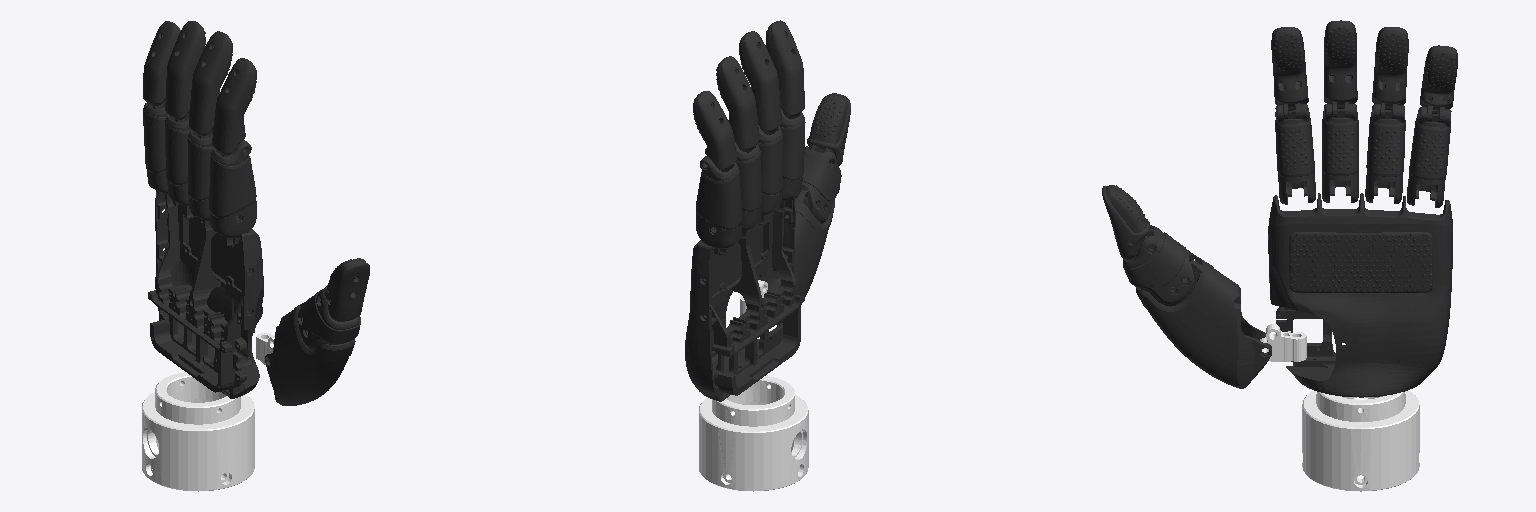
--- What the picture shows (computed from the rendered views, not written in the file) ---
Views: 3 orthographic renders of the robot side by side, from view 1: azimuth 30°, elevation 25°; view 2: azimuth 150°, elevation 25°; view 3: azimuth 270°, elevation 25°.
Model RH56F1 with 27 links and 26 joints (12 revolute, 14 fixed), rooted at L_base_link, posed all joints at 0.
Links seen in each view (by area): view 1: L_plam_2, L_base_link, L_thumb_2, L_index_1, L_ring_tip, L_index_tip, L_thumb_3, L_middle_tip, L_ring_1, L_middle_1, L_pinky_1, L_plam_force_sensor (+4 smaller); view 2: L_plam_2, L_base_link, L_pinky_1, L_thumb_2, L_thumb_3, L_middle_force_sensor, L_ring_tip, L_index_1, L_middle_1, L_ring_1, L_plam_force_sensor, L_pinky_force_sensor (+6 smaller); view 3: L_plam_2, L_base_link, L_plam_force_sensor, L_thumb_2, L_thumb_3, L_middle_1, L_index_1, L_pinky_1, L_ring_1, L_pinky_tip, L_middle_force_sensor, L_ring_2 (+7 smaller).
Boxes of the visible links, x1,y1,x2,y2 form: L_plam_2: [148, 190, 263, 398]; L_base_link: [142, 372, 254, 491]; L_thumb_2: [265, 302, 355, 405]; L_index_1: [209, 141, 256, 237]; L_ring_tip: [165, 21, 205, 121]; L_index_tip: [218, 58, 256, 156]; L_thumb_3: [298, 288, 360, 349]; L_middle_tip: [189, 42, 232, 138]; L_ring_1: [165, 113, 190, 205]; L_middle_1: [187, 129, 213, 220]; L_pinky_1: [143, 103, 167, 193]; L_plam_force_sensor: [189, 217, 243, 289]; L_plam_2: [685, 197, 804, 401]; L_base_link: [699, 376, 808, 491]; L_pinky_1: [696, 157, 742, 248]; L_thumb_2: [757, 189, 834, 325]; L_thumb_3: [798, 146, 841, 223]; L_middle_force_sensor: [739, 31, 776, 134]; L_ring_tip: [716, 56, 759, 152]; L_index_1: [779, 109, 805, 200]; L_middle_1: [757, 125, 782, 214]; L_ring_1: [735, 143, 761, 230]; L_plam_force_sensor: [710, 224, 762, 296]; L_pinky_force_sensor: [696, 91, 736, 171]; L_plam_2: [1268, 193, 1452, 397]; L_base_link: [1302, 390, 1419, 491]; L_plam_force_sensor: [1289, 232, 1432, 292]; L_thumb_2: [1136, 253, 1271, 388]; L_thumb_3: [1123, 225, 1196, 306]; L_middle_1: [1322, 104, 1358, 202]; L_index_1: [1275, 104, 1315, 204]; L_pinky_1: [1407, 107, 1451, 207]; L_ring_1: [1365, 104, 1405, 203]; L_pinky_tip: [1420, 45, 1457, 122]; L_middle_force_sensor: [1326, 20, 1357, 117]; L_ring_2: [1372, 37, 1408, 118].
Bounding box of the posed robot: 0.0547 × 0.1518 × 0.2135 m (x, y, z).
Meshes: 27 distinct files referenced, 25 mesh visuals loaded (25 binary STL); not drawn: 2 (reference not matched to a file when rendering).

URDF robot description (RH56F1):
<!-- <?xml version="1.0" encoding="utf-8"?> -->
<!-- This URDF was automatically created by SolidWorks to URDF Exporter! Originally created by Stephen Brawner ([email redacted]) 
     Commit Version: 1.6.0-4-g7f85cfe  Build Version: 1.6.7995.38578
     For more information, please see http://wiki.ros.org/sw_urdf_exporter -->
 <robot name="RH56F1">
  <link
    name="L_base_link">
    <inertial>
      <origin
        xyz="0.000631583768841232 -4.98983354635385E-11 0.0185710296512339"
        rpy="0 0 0" />
      <mass
        value="0.0793945339384899" />
      <inertia
        ixx="2.73302961659096E-05"
        ixy="-1.14020192447604E-12"
        ixz="2.86317776549754E-08"
        iyy="2.62165201865506E-05"
        iyz="-9.86803596469321E-13"
        izz="3.56824415579562E-05" />
    </inertial>
    <visual>
      <origin
        xyz="0 0 0"
        rpy="0 0 0" />
      <geometry>
        <mesh
          filename="./meshes_l/base_link.STL" />
      </geometry>
      <material
        name="">
        <color
          rgba="1 1 1 1" />
      </material>
    </visual>
    <collision>
      <origin
        xyz="0 0 0"
        rpy="0 0 0" />
      <geometry>
        <mesh
          filename="./meshes_l/base_link.STL" />
      </geometry>
    </collision>
  </link>
  <link
    name="L_thumb_1">
    <inertial>
      <origin
        xyz="-0.00015 0.00544 -0.0048200000000000005"
        rpy="0 0 0" />
      <mass
        value="0.016800000000000002" />
      <inertia
        ixx="7.3387e-07"
        ixy="1.436e-08"
        ixz="-1.11e-09"
        iyy="2.7925e-07"
        iyz="3.296e-08"
        izz="5.8189e-07" />
    </inertial>
    <visual>
      <origin
        xyz="0 0 0"
        rpy="0 0 0" />
      <geometry>
        <mesh
          filename="./meshes_l/left_thumb_1.STL" />
      </geometry>
      <material
        name="">
        <color
          rgba="1 1 1 1" />
      </material>
    </visual>
    <collision>
      <origin
        xyz="0 0 0"
        rpy="0 0 0" />
      <geometry>
        <mesh
          filename="./meshes_l/left_thumb_1.STL" />
      </geometry>
    </collision>
  </link>
  <joint
    name="L_thumb_1_joint"
    type="revolute">
    <origin
      xyz="0.01836 -0.027241 0.070511"
      rpy="0 0 0" />
    <parent
      link="L_base_link" />
    <child
      link="L_thumb_1" />
    <axis
      xyz="8.7274E-05 0 1" />
    <limit
      lower="0"
      upper="2.0943951023931953"
      effort="1"
      velocity="2" />
  </joint>
  <link
    name="L_thumb_2">
    <inertial>
      <origin
        xyz="-0.0238 0.01042 0.00478"
        rpy="0 0 0" />
      <mass
        value="0.06526" />
      <inertia
        ixx="1.378224e-05"
        ixy="-5.95663e-06"
        ixz="-1.9799999999999998e-09"
        iyy="1.1840129999999999e-05"
        iyz="-7.070000000000001e-09"
        izz="2.249189e-05" />
    </inertial>
    <visual>
      <origin
        xyz="0 0 0"
        rpy="0 0 0" />
      <geometry>
        <mesh
          filename="./meshes_l/left_thumb_2.STL" />
      </geometry>
      <material
        name="">
        <color
          rgba="0.25 0.25 0.25 1" />
      </material>
    </visual>
    <collision>
      <origin
        xyz="0 0 0"
        rpy="0 0 0" />
      <geometry>
        <mesh
          filename="./meshes_l/left_thumb_2.STL" />
      </geometry>
    </collision>
  </link>
  <joint
    name="L_thumb_2_joint"
    type="revolute">
    <origin
      xyz="0.005034 -0.01349 -0.0049121"
      rpy="1.5707 0 -1.5708" />
    <parent
      link="L_thumb_1" />
    <child
      link="L_thumb_2" />
    <axis
      xyz="0 0 1" />
    <limit
      lower="0"
      upper="0.4745550236172582"
      effort="1"
      velocity="2" />
  </joint>
  <link
    name="L_thumb_3">
    <inertial>
      <origin
        xyz="-0.01255 0.00331 0.00799"
        rpy="0 0 0" />
      <mass
        value="0.01333" />
      <inertia
        ixx="1.41987e-06"
        ixy="-1.4979e-07"
        ixz="-6.3e-10"
        iyy="1.18482e-06"
        iyz="-1.76e-09"
        izz="1.6920999999999999e-06" />
    </inertial>
    <visual>
      <origin
        xyz="0 0 0"
        rpy="0 0 0" />
      <geometry>
        <mesh
          filename="./meshes_l/left_thumb_3.STL" />
      </geometry>
      <material
        name="">
        <color
          rgba="0.25 0.25 0.25 1" />
      </material>
    </visual>
    <collision>
      <origin
        xyz="0 0 0"
        rpy="0 0 0" />
      <geometry>
        <mesh
          filename="./meshes_l/left_thumb_3.STL" />
      </geometry>
    </collision>
  </link>
  <joint
    name="L_thumb_3_joint"
    type="revolute">
    <origin
      xyz="0.033907 0.034601 -0.0029656"
      rpy="0 0 0" />
    <parent
      link="L_thumb_2" />
    <child
      link="L_thumb_3" />
    <axis
      xyz="0 0 1" />
    <limit
      lower="0"
      upper="3.14"
      effort="1"
      velocity="2" />
      <mimic 
        joint="L_thumb_2_joint"
        multiplier="1.2953"
        offset="0" />
  </joint>
  <link
    name="L_thumb_4">
    <inertial>
      <origin
        xyz="-0.010199999999999999 0.00886 0.0067"
        rpy="0 0 0" />
      <mass
        value="0.011439999999999999" />
      <inertia
        ixx="9.4221e-07"
        ixy="-1.6288e-07"
        ixz="-0.0"
        iyy="3.9966e-07"
        iyz="0.0"
        izz="9.478099999999999e-07" />
    </inertial>
    <visual>
      <origin
        xyz="0 0 0"
        rpy="0 0 0" />
      <geometry>
        <mesh
          filename="./meshes_l/left_thumb_4.STL" />
      </geometry>
      <material
        name="">
        <color
          rgba="0.25 0.25 0.25 1" />
      </material>
    </visual>
    <collision>
      <origin
        xyz="0 0 0"
        rpy="0 0 0" />
      <geometry>
        <mesh
          filename="./meshes_l/left_thumb_4.STL" />
      </geometry>
    </collision>
  </link>
  <joint
    name="L_thumb_4_joint"
    type="revolute">
    <origin
      xyz="0.01441 0.014648 0.0013"
      rpy="0 0 0" />
    <parent
      link="L_thumb_3" />
    <child
      link="L_thumb_4" />
    <axis
      xyz="0 0 1" />
    <limit
      lower="0"
      upper="3.14"
      effort="1"
      velocity="2" />
      <mimic 
        joint="L_thumb_3_joint"
        multiplier="0.8962"
        offset="0" />
  </joint>
  <link
    name="L_thumb_force_sensor">
    <inertial>
      <origin
        xyz="0.00489751957141649 0.0007076731556618 -0.00883776267773212"
        rpy="0 0 0" />
      <mass
        value="0" />
      <inertia
        ixx="0"
        ixy="0"
        ixz="0"
        iyy="0"
        iyz="0"
        izz="0" />
    </inertial>
    <visual>
      <origin
        xyz="0 0 0"
        rpy="0 0 0" />
      <geometry>
        <mesh
          filename="./meshes_l/thumb_force_sensor.STL" />
      </geometry>
      <material
        name="">
        <color
          rgba="0.25 0.25 0.25 1" />
      </material>
    </visual>
    <collision>
      <origin
        xyz="0 0 0"
        rpy="0 0 0" />
      <geometry>
        <mesh
          filename="./meshes_l/thumb_force_sensor.STL" />
      </geometry>
    </collision>
  </link>
  <joint
    name="L_thumb_force_sensor_joint"
    type="fixed">
    <origin
      xyz="0.0082761 0.019128 0.0068"
      rpy="1.5194 0.0515 -2.3562" />
    <parent
      link="L_thumb_4" />
    <child
      link="L_thumb_force_sensor" />
    <axis
      xyz="0 0 0" />
  </joint>
  <link
    name="L_thumb_tip">
    <inertial>
      <origin
        xyz="8.11478806861891E-05 -0.00949601991936605 -0.0139509187579862"
        rpy="0 0 0" />
      <mass
        value="0" />
      <inertia
        ixx="0"
        ixy="0"
        ixz="0"
        iyy="0"
        iyz="0"
        izz="0" />
    </inertial>
    <visual>
      <origin
        xyz="0 0 0"
        rpy="0 0 0" />
      <geometry>
        <mesh
          filename="./meshes_l/thumb_tip.STL" />
      </geometry>
      <material
        name="">
        <color
          rgba="0.25 0.25 0.25 1" />
      </material>
    </visual>
    <collision>
      <origin
        xyz="0 0 0"
        rpy="0 0 0" />
      <geometry>
        <mesh
          filename="./meshes_l/thumb_tip.STL" />
      </geometry>
    </collision>
  </link>
  <joint
    name="L_thumb_tip_joint"
    type="fixed">
    <origin
      xyz="0.016676 0.025314 0.0067577"
      rpy="1.8172 -1.5641 -3.1286" />
    <parent
      link="L_thumb_4" />
    <child
      link="L_thumb_tip" />
    <axis
      xyz="0 0 0" />
  </joint>
  <link
    name="L_index_1">
    <inertial>
      <origin
        xyz="0.00046 0.01509 0.0060999999999999995"
        rpy="0 0 0" />
      <mass
        value="0.01111" />
      <inertia
        ixx="2.04599e-06"
        ixy="3.703e-08"
        ixz="1.77e-09"
        iyy="5.4029e-07"
        iyz="-9.149e-08"
        izz="2.0895e-06" />
    </inertial>
    <visual>
      <origin
        xyz="0 0 0"
        rpy="0 0 0" />
      <geometry>
        <mesh
          filename="./meshes_l/left_index_1.STL" />
      </geometry>
      <material
        name="">
        <color
          rgba="0.25 0.25 0.25 1" />
      </material>
    </visual>
    <collision>
      <origin
        xyz="0 0 0"
        rpy="0 0 0" />
      <geometry>
        <mesh
          filename="./meshes_l/left_index_1.STL" />
      </geometry>
    </collision>
  </link>
  <joint
    name="L_index_1_joint"
    type="revolute">
    <origin
      xyz="0.00070753 -0.034377 0.13554"
      rpy="1.6319 0 0" />
    <parent
      link="L_base_link" />
    <child
      link="L_index_1" />
    <axis
      xyz="0 0 -1" />
    <limit
      lower="0"
      upper="1.5285593588966337"
      effort="1"
      velocity="2" />
  </joint>
  <link
    name="L_index_2">
    <inertial>
      <origin
        xyz="-0.00436 0.01623 0.005019999999999999"
        rpy="0 0 0" />
      <mass
        value="0.0103" />
      <inertia
        ixx="1.5669000000000002e-06"
        ixy="2.2414e-07"
        ixz="1.3699999999999999e-08"
        iyy="2.9717e-07"
        iyz="-7.84e-08"
        izz="1.5746300000000001e-06" />
    </inertial>
    <visual>
      <origin
        xyz="0 0 0"
        rpy="0 0 0" />
      <geometry>
        <mesh
          filename="./meshes_l/left_index_2.STL" />
      </geometry>
      <material
        name="">
        <color
          rgba="0.25 0.25 0.25 1" />
      </material>
    </visual>
    <collision>
      <origin
        xyz="0 0 0"
        rpy="0 0 0" />
      <geometry>
        <mesh
          filename="./meshes_l/left_index_2.STL" />
      </geometry>
    </collision>
  </link>
  <joint
    name="L_index_2_joint"
    type="revolute">
    <origin
      xyz="0.0031056 0.032854 -0.001"
      rpy="0 0 0" />
    <parent
      link="L_index_1" />
    <child
      link="L_index_2" />
    <axis
      xyz="0 0 -1" />
    <limit
      lower="0"
      upper="3.14"
      effort="1"
      velocity="2" />
      <mimic 
        joint="L_index_1_joint"
        multiplier="1.1545"
        offset="0" />
  </joint>
  <link
    name="L_index_force_sensor">
    <inertial>
      <origin
        xyz="0.00120718275325524 -0.012261274947138 -0.00640384837472582"
        rpy="0 0 0" />
      <mass
        value="0" />
      <inertia
        ixx="0"
        ixy="0"
        ixz="0"
        iyy="0"
        iyz="0"
        izz="0" />
    </inertial>
    <visual>
      <origin
        xyz="0 0 0"
        rpy="0 0 0" />
      <geometry>
        <mesh
          filename="./meshes_l/index_force_sensor.STL" />
      </geometry>
      <material
        name="">
        <color
          rgba="0.25 0.25 0.25 1" />
      </material>
    </visual>
    <collision>
      <origin
        xyz="0 0 0"
        rpy="0 0 0" />
      <geometry>
        <mesh
          filename="./meshes_l/index_force_sensor.STL" />
      </geometry>
    </collision>
  </link>
  <joint
    name="L_index_force_sensor_joint"
    type="fixed">
    <origin
      xyz="0.005139 0.028671 -0.0059996"
      rpy="-2.1954 1.4829 -2.3749" />
    <parent
      link="L_index_2" />
    <child
      link="L_index_force_sensor" />
    <axis
      xyz="0 0 0" />
  </joint>
  <link
    name="L_index_tip">
    <inertial>
      <origin
        xyz="0.0014808314279941 -0.0177565390809834 -0.0152284217596933"
        rpy="0 0 0" />
      <mass
        value="0" />
      <inertia
        ixx="0"
        ixy="0"
        ixz="0"
        iyy="0"
        iyz="0"
        izz="0" />
    </inertial>
    <visual>
      <origin
        xyz="0 0 0"
        rpy="0 0 0" />
      <geometry>
        <mesh
          filename="./meshes_l/index_tip.STL" />
      </geometry>
      <material
        name="">
        <color
          rgba="0.25 0.25 0.25 1" />
      </material>
    </visual>
    <collision>
      <origin
        xyz="0 0 0"
        rpy="0 0 0" />
      <geometry>
        <mesh
          filename="./meshes_l/index_tip.STL" />
      </geometry>
    </collision>
  </link>
  <joint
    name="L_index_tip_joint"
    type="fixed">
    <origin
      xyz="0.0049188 0.039631 -0.006"
      rpy="-2.1925 1.5073 -1.8461" />
    <parent
      link="L_index_2" />
    <child
      link="L_index_tip" />
    <axis
      xyz="0 0 0" />
  </joint>
  <link
    name="L_middle_1">
    <inertial>
      <origin
        xyz="0.00046 0.01468 0.00701"
        rpy="0 0 0" />
      <mass
        value="0.01111" />
      <inertia
        ixx="2.04599e-06"
        ixy="3.707e-08"
        ixz="-4.9e-10"
        iyy="5.3491e-07"
        iyz="3.6e-09"
        izz="2.09487e-06" />
    </inertial>
    <visual>
      <origin
        xyz="0 0 0"
        rpy="0 0 0" />
      <geometry>
        <mesh
          filename="./meshes_l/left_middle_1.STL" />
      </geometry>
      <material
        name="">
        <color
          rgba="0.25 0.25 0.25 1" />
      </material>
    </visual>
    <collision>
      <origin
        xyz="0 0 0"
        rpy="0 0 0" />
      <geometry>
        <mesh
          filename="./meshes_l/left_middle_1.STL" />
      </geometry>
    </collision>
  </link>
  <joint
    name="L_middle_1_joint"
    type="revolute">
    <origin
      xyz="0.00070746 -0.015767 0.13648"
      rpy="1.5708 0 0" />
    <parent
      link="L_base_link" />
    <child
      link="L_middle_1" />
    <axis
      xyz="0 0 -1" />
    <limit
      lower="0"
      upper="1.5285593588966337"
      effort="1"
      velocity="2" />
  </joint>
  <link
    name="L_middle_2">
    <inertial>
      <origin
        xyz="-0.004019999999999999 0.01731 0.006"
        rpy="0 0 0" />
      <mass
        value="0.01122" />
      <inertia
        ixx="1.92755e-06"
        ixy="2.9305e-07"
        ixz="-1.0000000000000001e-11"
        iyy="3.2973000000000003e-07"
        iyz="1.0000000000000001e-11"
        izz="1.95229e-06" />
    </inertial>
    <visual>
      <origin
        xyz="0 0 0"
        rpy="0 0 0" />
      <geometry>
        <mesh
          filename="./meshes_l/left_middle_2.STL" />
      </geometry>
      <material
        name="">
        <color
          rgba="0.25 0.25 0.25 1" />
      </material>
    </visual>
    <collision>
      <origin
        xyz="0 0 0"
        rpy="0 0 0" />
      <geometry>
        <mesh
          filename="./meshes_l/left_middle_2.STL" />
      </geometry>
    </collision>
  </link>
  <joint
    name="L_middle_2_joint"
    type="revolute">
    <origin
      xyz="0.0031056 0.032854 -0.001"
      rpy="0 0 0" />
    <parent
      link="L_middle_1" />
    <child
      link="L_middle_2" />
    <axis
      xyz="0 0 -1" />
    <limit
      lower="0"
      upper="3.14"
      effort="1"
      velocity="2" />
      <mimic 
        joint="L_middle_1_joint"
        multiplier="1.1545"
        offset="0" />
  </joint>
  <link
    name="L_middle_force_sensor">
    <inertial>
      <origin
        xyz="0.000471409970909109 -0.0138861005738287 -0.00634250554762082"
        rpy="0 0 0" />
      <mass
        value="0" />
      <inertia
        ixx="0"
        ixy="0"
        ixz="0"
        iyy="0"
        iyz="0"
        izz="0" />
    </inertial>
    <visual>
      <origin
        xyz="0 0 0"
        rpy="0 0 0" />
      <geometry>
        <mesh
          filename="./meshes_l/middle_force_sensor.STL" />
      </geometry>
      <material
        name="">
        <color
          rgba="0.25 0.25 0.25 1" />
      </material>
    </visual>
    <collision>
      <origin
        xyz="0 0 0"
        rpy="0 0 0" />
      <geometry>
        <mesh
          filename="./meshes_l/middle_force_sensor.STL" />
      </geometry>
    </collision>
  </link>
  <joint
    name="L_middle_force_sensor_joint"
    type="fixed">
    <origin
      xyz="0.0059655 0.031551 -0.0060998"
      rpy="-2.9405 1.5184 3.1416" />
    <parent
      link="L_middle_2" />
    <child
      link="L_middle_force_sensor" />
    <axis
      xyz="0 0 0" />
  </joint>
  <link
    name="L_middle_tip">
    <inertial>
      <origin
        xyz="-1.57112051041297E-05 -0.0191707815454482 -0.0160132461086732"
        rpy="0 0 0" />
      <mass
        value="0" />
      <inertia
        ixx="0"
        ixy="0"
        ixz="0"
        iyy="0"
        iyz="0"
        izz="0" />
    </inertial>
    <visual>
      <origin
        xyz="0 0 0"
        rpy="0 0 0" />
      <geometry>
        <mesh
          filename="./meshes_l/middle_tip.STL" />
      </geometry>
      <material
        name="">
        <color
          rgba="0.25 0.25 0.25 1" />
      </material>
    </visual>
    <collision>
      <origin
        xyz="0 0 0"
        rpy="0 0 0" />
      <geometry>
        <mesh
          filename="./meshes_l/middle_tip.STL" />
      </geometry>
    </collision>
  </link>
  <joint
    name="L_middle_tip_joint"
    type="fixed">
    <origin
      xyz="0.0059647 0.042512 -0.0060998"
      rpy="-0.3273 1.5691 0" />
    <parent
      link="L_middle_2" />
    <child
      link="L_middle_tip" />
    <axis
      xyz="0 0 0" />
  </joint>
  <link
    name="L_ring_1">
    <inertial>
      <origin
        xyz="0.00046 0.0143 0.00777"
        rpy="0 0 0" />
      <mass
        value="0.01111" />
      <inertia
        ixx="2.04599e-06"
        ixy="3.699e-08"
        ixz="-2.43e-09"
        iyy="5.395599999999999e-07"
        iyz="8.511e-08"
        izz="2.09023e-06" />
    </inertial>
    <visual>
      <origin
        xyz="0 0 0"
        rpy="0 0 0" />
      <geometry>
        <mesh
          filename="./meshes_l/left_ring_1.STL" />
      </geometry>
      <material
        name="">
        <color
          rgba="0.25 0.25 0.25 1" />
      </material>
    </visual>
    <collision>
      <origin
        xyz="0 0 0"
        rpy="0 0 0" />
      <geometry>
        <mesh
          filename="./meshes_l/left_ring_1.STL" />
      </geometry>
    </collision>
  </link>
  <joint
    name="L_ring_1_joint"
    type="revolute">
    <origin
      xyz="0.00070746 0.0030876 0.13643"
      rpy="1.5184 0 0" />
    <parent
      link="L_base_link" />
    <child
      link="L_ring_1" />
    <axis
      xyz="0 0 -1" />
    <limit
      lower="0"
      upper="1.5285593588966337"
      effort="1"
      velocity="2" />
  </joint>
  <link
    name="L_ring_2">
    <inertial>
      <origin
        xyz="-0.00436 0.015560000000000001 0.0068200000000000005"
        rpy="0 0 0" />
      <mass
        value="0.0103" />
      <inertia
        ixx="1.5669000000000002e-06"
        ixy="2.2425e-07"
        ixz="-1.1759999999999999e-08"
        iyy="2.959e-07"
        iyz="6.729e-08"
        izz="1.5758900000000002e-06" />
    </inertial>
    <visual>
      <origin
        xyz="0 0 0"
        rpy="0 0 0" />
      <geometry>
        <mesh
          filename="./meshes_l/left_ring_2.STL" />
      </geometry>
      <material
        name="">
        <color
          rgba="0.25 0.25 0.25 1" />
      </material>
    </visual>
    <collision>
      <origin
        xyz="0 0 0"
        rpy="0 0 0" />
      <geometry>
        <mesh
          filename="./meshes_l/left_ring_2.STL" />
      </geometry>
    </collision>
  </link>
  <joint
    name="L_ring_2_joint"
    type="revolute">
    <origin
      xyz="0.0031056 0.032854 -0.001"
      rpy="0 0 0" />
    <parent
      link="L_ring_1" />
    <child
      link="L_ring_2" />
    <axis
      xyz="0 0 -1" />
    <limit
      lower="0"
      upper="3.14"
      effort="1"
      velocity="2" />
      <mimic 
        joint="L_ring_1_joint"
        multiplier="1.1545"
        offset="0" />
  </joint>
  <link
    name="L_ring_force_sensor">
    <inertial>
      <origin
        xyz="-0.000209715894633783 -0.0123187686132097 -0.00640384736210899"
        rpy="0 0 0" />
      <mass
        value="0" />
      <inertia
        ixx="0"
        ixy="0"
        ixz="0"
        iyy="0"
        iyz="0"
        izz="0" />
    </inertial>
    <visual>
      <origin
        xyz="0 0 0"
        rpy="0 0 0" />
      <geometry>
        <mesh
          filename="./meshes_l/ring_force_sensor.STL" />
      </geometry>
      <material
        name="">
        <color
          rgba="0.25 0.25 0.25 1" />
      </material>
    </visual>
    <collision>
      <origin
        xyz="0 0 0"
        rpy="0 0 0" />
      <geometry>
        <mesh
          filename="./meshes_l/ring_force_sensor.STL" />
      </geometry>
    </collision>
  </link>
  <joint
    name="L_ring_force_sensor_joint"
    type="fixed">
    <origin
      xyz="0.005139 0.028671 -0.0059996"
      rpy="2.4366 1.5033 2.2541" />
    <parent
      link="L_ring_2" />
    <child
      link="L_ring_force_sensor" />
    <axis
      xyz="0 0 0" />
  </joint>
  <link
    name="L_ring_tip">
    <inertial>
      <origin
        xyz="-0.00100385930577584 -0.0177521786857137 -0.0152723548834053"
        rpy="0 0 0" />
      <mass
        value="0" />
      <inertia
        ixx="0"
        ixy="0"
        ixz="0"
        iyy="0"
        iyz="0"
        izz="0" />
    </inertial>
    <visual>
      <origin
        xyz="0 0 0"
        rpy="0 0 0" />
      <geometry>
        <mesh
          filename="./meshes_l/ring_tip.STL" />
      </geometry>
      <material
        name="">
        <color
          rgba="0.25 0.25 0.25 1" />
      </material>
    </visual>
    <collision>
      <origin
        xyz="0 0 0"
        rpy="0 0 0" />
      <geometry>
        <mesh
          filename="./meshes_l/ring_tip.STL" />
      </geometry>
    </collision>
  </link>
  <joint
    name="L_ring_tip_joint"
    type="fixed">
    <origin
      xyz="0.0049188 0.039631 -0.006"
      rpy="1.5417 1.5157 1.889" />
    <parent
      link="L_ring_2" />
    <child
      link="L_ring_tip" />
    <axis
      xyz="0 0 0" />
  </joint>
  <link
    name="L_pinky_1">
    <inertial>
      <origin
        xyz="0.00046 0.013869999999999999 0.0085"
        rpy="0 0 0" />
      <mass
        value="0.01111" />
      <inertia
        ixx="2.04599e-06"
        ixy="3.6810000000000003e-08"
        ixz="-4.360000000000001e-09"
        iyy="5.527e-07"
        iyz="1.6568e-07"
        izz="2.07708e-06" />
    </inertial>
    <visual>
      <origin
        xyz="0 0 0"
        rpy="0 0 0" />
      <geometry>
        <mesh
          filename="./meshes_l/left_little_1.STL" />
      </geometry>
      <material
        name="">
        <color
          rgba="0.25 0.25 0.25 1" />
      </material>
    </visual>
    <collision>
      <origin
        xyz="0 0 0"
        rpy="0 0 0" />
      <geometry>
        <mesh
          filename="./meshes_l/left_little_1.STL" />
      </geometry>
    </collision>
  </link>
  <joint
    name="L_pinky_1_joint"
    type="revolute">
    <origin
      xyz="0.00070753 0.021094 0.13531"
      rpy="1.4661 0 0" />
    <parent
      link="L_base_link" />
    <child
      link="L_pinky_1" />
    <axis
      xyz="0 0 -1" />
    <limit
      lower="0"
      upper="1.5285593588966337"
      effort="1"
      velocity="2" />
  </joint>
  <link
    name="L_pinky_2">
    <inertial>
      <origin
        xyz="-0.004070000000000001 0.01192 0.00728"
        rpy="0 0 0" />
      <mass
        value="0.00839" />
      <inertia
        ixx="9.3539e-07"
        ixy="1.6843e-07"
        ixz="-1.7670000000000002e-08"
        iyy="2.4681e-07"
        iyz="7.359e-08"
        izz="9.379400000000001e-07" />
    </inertial>
    <visual>
      <origin
        xyz="0 0 0"
        rpy="0 0 0" />
      <geometry>
        <mesh
          filename="./meshes_l/left_little_2.STL" />
      </geometry>
      <material
        name="">
        <color
          rgba="0.25 0.25 0.25 1" />
      </material>
    </visual>
    <collision>
      <origin
        xyz="0 0 0"
        rpy="0 0 0" />
      <geometry>
        <mesh
          filename="./meshes_l/left_little_2.STL" />
      </geometry>
    </collision>
  </link>
  <joint
    name="L_pinky_2_joint"
    type="revolute">
    <origin
      xyz="0.0031057 0.032854 -0.001"
      rpy="0 0 0" />
    <parent
      link="L_pinky_1" />
    <child
      link="L_pinky_2" />
    <axis
      xyz="0 0 -1" />
    <limit
      lower="0"
      upper="3.14"
      effort="1"
      velocity="2" />
      <mimic 
        joint="L_pinky_1_joint"
        multiplier="1.1545"
        offset="0" />
  </joint>
  <link
    name="L_pinky_force_sensor">
    <inertial>
      <origin
        xyz="-0.000486995031034054 -0.00853489982845629 -0.00651155949691547"
        rpy="0 0 0" />
      <mass
        value="0" />
      <inertia
        ixx="0"
        ixy="0"
        ixz="0"
        iyy="0"
        iyz="0"
        izz="0" />
    </inertial>
    <visual>
      <origin
        xyz="0 0 0"
        rpy="0 0 0" />
      <geometry>
        <mesh
          filename="./meshes_l/little_force_sensor.STL" />
      </geometry>
      <material
        name="">
        <color
          rgba="0.25 0.25 0.25 1" />
      </material>
    </visual>
    <collision>
      <origin
        xyz="0 0 0"
        rpy="0 0 0" />
      <geometry>
        <mesh
          filename="./meshes_l/little_force_sensor.STL" />
      </geometry>
    </collision>
  </link>
  <joint
    name="L_pinky_force_sensor_joint"
    type="fixed">
    <origin
      xyz="0.0051314 0.021582 -0.0063543"
      rpy="2.0609 1.4616 1.858" />
    <parent
      link="L_pinky_2" />
    <child
      link="L_pinky_force_sensor" />
    <axis
      xyz="0 0 0" />
  </joint>
  <link
    name="L_pinky_tip">
    <inertial>
      <origin
        xyz="-0.00160676343735405 -0.0143780070321105 -0.0134619377604817"
        rpy="0 0 0" />
      <mass
        value="0" />
      <inertia
        ixx="0"
        ixy="0"
        ixz="0"
        iyy="0"
        iyz="0"
        izz="0" />
    </inertial>
    <visual>
      <origin
        xyz="0 0 0"
        rpy="0 0 0" />
      <geometry>
        <mesh
          filename="./meshes_l/little_tip.STL" />
      </geometry>
      <material
        name="">
        <color
          rgba="0.25 0.25 0.25 1" />
      </material>
    </visual>
    <collision>
      <origin
        xyz="0 0 0"
        rpy="0 0 0" />
      <geometry>
        <mesh
          filename="./meshes_l/little_tip.STL" />
      </geometry>
    </collision>
  </link>
  <joint
    name="L_pinky_tip_joint"
    type="fixed">
    <origin
      xyz="0.0051203 0.032544 -0.0063511"
      rpy="1.554 1.4608 1.8824" />
    <parent
      link="L_pinky_2" />
    <child
      link="L_pinky_tip" />
    <axis
      xyz="0 0 0" />
  </joint>
  <link
    name="L_plam_1">
    <inertial>
      <origin
        xyz="-0.00132 0.00039 0.07415000000000001"
        rpy="0 0 0" />
      <mass
        value="0.41238" />
      <inertia
        ixx="0.00078835939"
        ixy="-8.875e-07"
        ixz="3.202881e-05"
        iyy="0.00066648352"
        iyz="1.4681199999999999e-06"
        izz="0.00026678122" />
    </inertial>
    <visual>
      <origin
        xyz="0 0 0"
        rpy="0 0 0" />
      <geometry>
        <mesh
          filename="./meshes_l/plam_1.STL" />
      </geometry>
      <material
        name="">
        <color
          rgba="1 1 1 1" />
      </material>
    </visual>
    <collision>
      <origin
        xyz="0 0 0"
        rpy="0 0 0" />
      <geometry>
        <mesh
          filename="./meshes_l/plam_1.STL" />
      </geometry>
    </collision>
  </link>
  <joint
    name="L_plam_1_joint"
    type="fixed">
    <origin
      xyz="0 0 0.0305"
      rpy="0 0 0" />
    <parent
      link="L_base_link" />
    <child
      link="L_plam_1" />
    <axis
      xyz="0 0 0" />
  </joint>
  <link
    name="L_plam_2">
    <inertial>
      <origin
        xyz="0.00738877558367422 0.00286851435787733 0.0491990009538881"
        rpy="0 0 0" />
      <mass
        value="0.01" />
      <inertia
        ixx="7.42627311403438E-05"
        ixy="-1.51062288185372E-06"
        ixz="-1.38221866903039E-06"
        iyy="4.54002453711238E-05"
        iyz="3.52845387182101E-06"
        izz="3.50303789099898E-05" />
    </inertial>
    <visual>
      <origin
        xyz="0 0 0"
        rpy="0 0 0" />
      <geometry>
        <mesh
          filename="./meshes_l/plam_2.STL" />
      </geometry>
      <material
        name="">
        <color
          rgba="0.25 0.25 0.25 1" />
      </material>
    </visual>
    <collision>
      <origin
        xyz="0 0 0"
        rpy="0 0 0" />
      <geometry>
        <mesh
          filename="./meshes_l/plam_2.STL" />
      </geometry>
    </collision>
  </link>
  <joint
    name="L_plam_2_joint"
    type="fixed">
    <origin
      xyz="0 0 0"
      rpy="0 0 0" />
    <parent
      link="L_plam_1" />
    <child
      link="L_plam_2" />
    <axis
      xyz="0 0 0" />
  </joint>
  <link
    name="L_plam_3">
    <inertial>
      <origin
        xyz="-0.0145080707705958 -0.00297062755371721 0.0599886430688916"
        rpy="0 0 0" />
      <mass
        value="0.01" />
      <inertia
        ixx="7.44290151295326E-05"
        ixy="2.11550341708188E-06"
        ixz="3.5267344320077E-07"
        iyy="4.06594932990061E-05"
        iyz="-3.15566621908941E-06"
        izz="4.24832389559144E-05" />
    </inertial>
    <visual>
      <origin
        xyz="0 0 0"
        rpy="0 0 0" />
      <geometry>
        <mesh
          filename="./meshes_l/plam_3.STL" />
      </geometry>
      <material
        name="">
        <color
          rgba="1 1 1 1" />
      </material>
    </visual>
    <collision>
      <origin
        xyz="0 0 0"
        rpy="0 0 0" />
      <geometry>
        <mesh
          filename="./meshes_l/plam_3.STL" />
      </geometry>
    </collision>
  </link>
  <joint
    name="L_plam_3_joint"
    type="fixed">
    <origin
      xyz="0 0 0"
      rpy="0 0 0" />
    <parent
      link="L_plam_2" />
    <child
      link="L_plam_3" />
    <axis
      xyz="0 0 0" />
  </joint>
  <link
    name="L_plam_force_sensor">
    <inertial>
      <origin
        xyz="0.00135083432691963 -0.00241176672948407 -0.00177409386471654"
        rpy="0 0 0" />
      <mass
        value="0.00449423213489162" />
      <inertia
        ixx="2.77343430370559E-07"
        ixy="9.29194202733673E-12"
        ixz="-1.13995686775868E-12"
        iyy="1.25941926345234E-06"
        iyz="5.96425032363731E-09"
        izz="1.53055306696602E-06" />
    </inertial>
    <visual>
      <origin
        xyz="0 0 0"
        rpy="0 0 0" />
      <geometry>
        <mesh
          filename="./meshes_l/plam_force_sensor.STL" />
      </geometry>
      <material
        name="">
        <color
          rgba="0.25 0.25 0.25 1" />
      </material>
    </visual>
    <collision>
      <origin
        xyz="0 0 0"
        rpy="0 0 0" />
      <geometry>
        <mesh
          filename="./meshes_l/plam_force_sensor.STL" />
      </geometry>
    </collision>
  </link>
  <joint
    name="L_plam_force_sensor_joint"
    type="fixed">
    <origin
      xyz="0.01594 -0.0013505 0.073746"
      rpy="1.5708 0 1.5708" />
    <parent
      link="L_plam_2" />
    <child
      link="L_plam_force_sensor" />
    <axis
      xyz="0 0 0" />
  </joint>
</robot>
